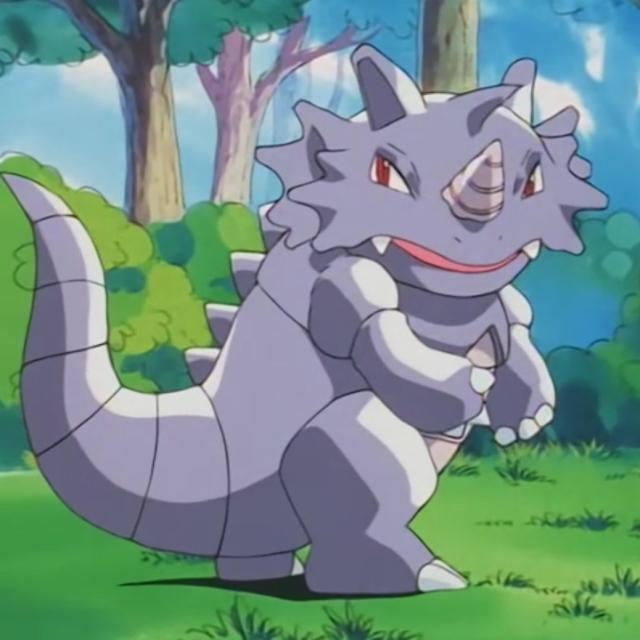Rhydon: (164, 56, 572, 594)
